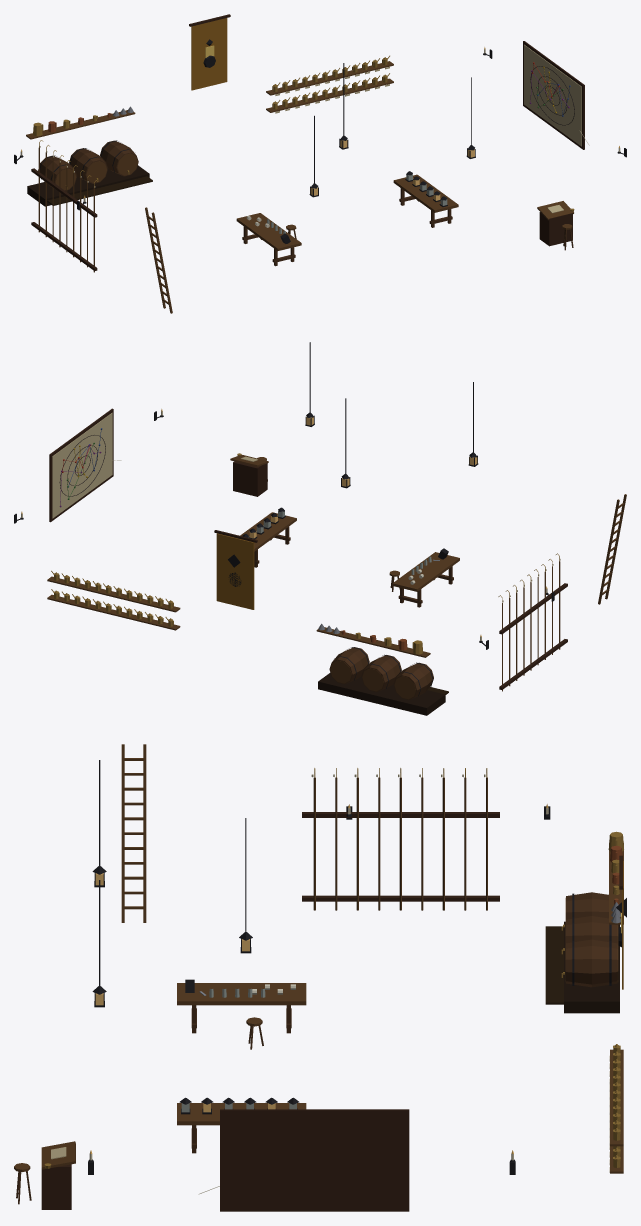
The model's file is lamplighters-hall.glb.
3 renders of one model, top to bottom at view 1: azimuth 30°, elevation 25°; view 2: azimuth 150°, elevation 25°; view 3: azimuth 270°, elevation 25°, orthographic. The views are drawn at different scales.
Parts seen in each view (by area): view 1: lamplighters-hall; view 2: lamplighters-hall; view 3: lamplighters-hall.
Boxes of the visible parts, box(x1,y1,x2,y2) form: lamplighters-hall: box(14, 14, 626, 313); lamplighters-hall: box(14, 342, 626, 715); lamplighters-hall: box(14, 744, 626, 1211).
Size of the model in its own units: 19.59 by 6.83 by 14.24.
